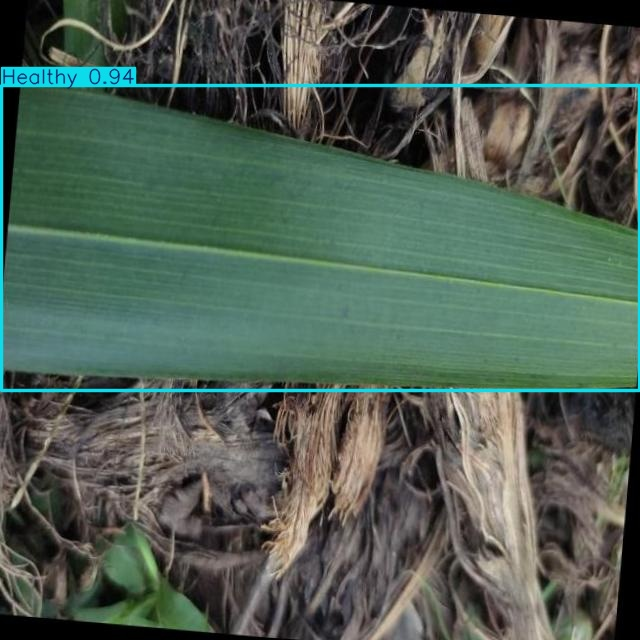Healthy: (2, 85, 640, 390)
